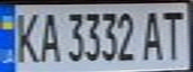2: (115, 8, 139, 62)
3: (81, 8, 103, 63), (63, 8, 84, 63), (100, 8, 121, 62)
A: (139, 7, 169, 62), (36, 8, 63, 63)
K: (9, 8, 42, 64)
T: (157, 7, 190, 61)
